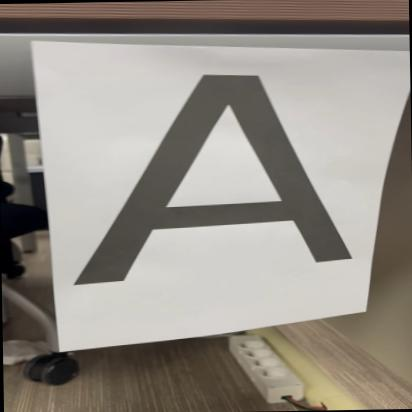seat: (65, 61, 365, 284)
